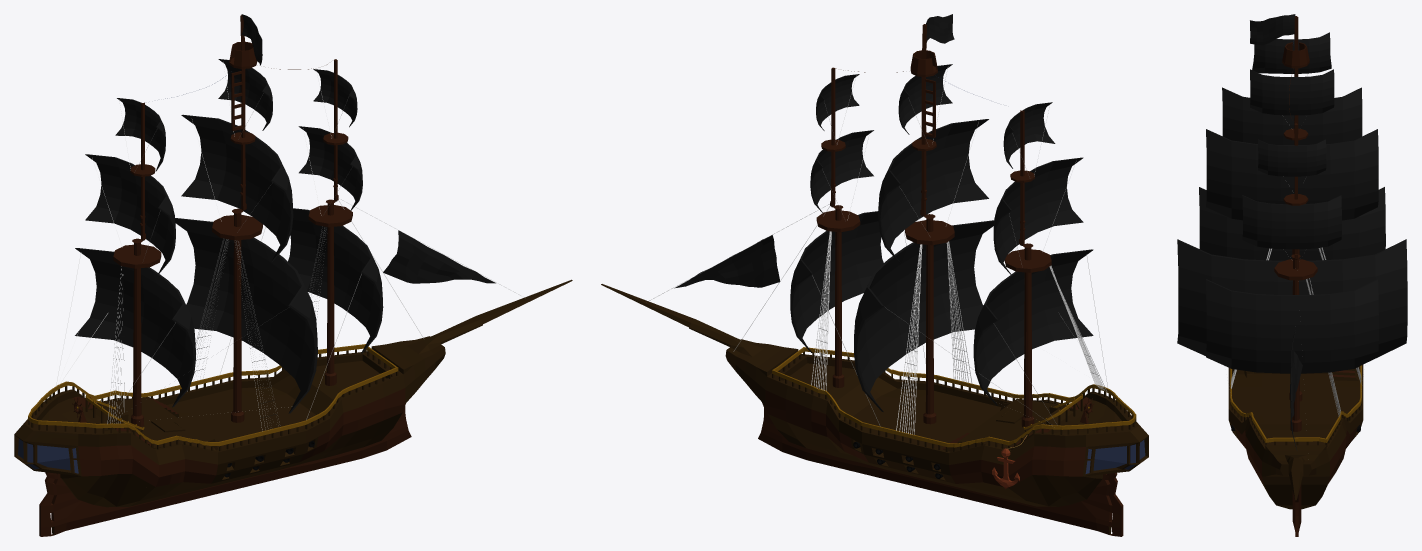
Rendered from old-ship.glb.
3 renders of one model, left to right at view 1: azimuth 30°, elevation 25°; view 2: azimuth 150°, elevation 25°; view 3: azimuth 270°, elevation 25°, orthographic. The views are drawn at different scales.
Visible parts, largest first — view 1: pirate ship; view 2: pirate ship; view 3: pirate ship.
Part boxes in pixels (x1,y1,x2,y2): pirate ship: (14, 14, 572, 536); pirate ship: (601, 14, 1148, 536); pirate ship: (1177, 14, 1407, 536).
Bounding box in the file's own units: 59.23 × 48.64 × 22.35.
